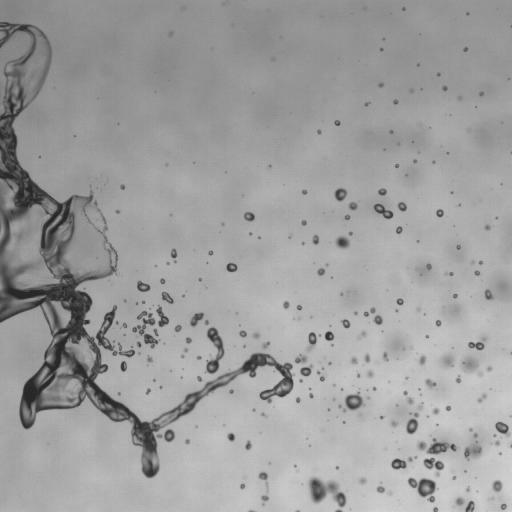droplet: (132, 305, 169, 348), (417, 438, 457, 476), (308, 477, 346, 511), (408, 477, 437, 502), (338, 391, 364, 412), (461, 357, 483, 376), (468, 334, 487, 350), (464, 443, 482, 459), (495, 421, 511, 437), (439, 353, 455, 368), (335, 235, 349, 249), (190, 312, 203, 326), (334, 188, 347, 201), (300, 365, 313, 376), (162, 291, 173, 303), (137, 281, 150, 291), (492, 480, 502, 492), (226, 262, 237, 272), (425, 378, 436, 388), (295, 354, 307, 363), (417, 354, 426, 365), (244, 212, 254, 221), (484, 289, 493, 299), (324, 331, 334, 340), (465, 501, 474, 511), (397, 202, 406, 211), (373, 315, 382, 324), (341, 319, 350, 328), (455, 496, 464, 505), (348, 202, 357, 210), (171, 249, 177, 260), (227, 433, 235, 441), (312, 235, 319, 244), (261, 341, 270, 348), (120, 361, 126, 371), (378, 188, 386, 195), (436, 209, 443, 217), (317, 268, 325, 275), (358, 477, 366, 484), (376, 485, 384, 492), (364, 353, 370, 362), (382, 352, 388, 361), (245, 440, 251, 449), (396, 298, 403, 305), (174, 325, 181, 332), (239, 330, 246, 337), (350, 357, 357, 364), (390, 420, 397, 427), (252, 332, 260, 338), (396, 226, 402, 233), (283, 301, 289, 308), (432, 408, 439, 414), (484, 224, 490, 230), (435, 320, 441, 326), (367, 371, 373, 377), (147, 356, 152, 363), (455, 375, 460, 382), (493, 440, 500, 445), (334, 120, 340, 125), (186, 337, 191, 343), (136, 341, 141, 347), (486, 366, 492, 371), (145, 388, 150, 394), (445, 405, 451, 410), (500, 504, 506, 509), (302, 189, 307, 194), (301, 220, 306, 225), (208, 250, 213, 255), (426, 264, 431, 269), (474, 270, 479, 275), (197, 376, 202, 381), (344, 215, 350, 219), (160, 278, 164, 284), (296, 397, 300, 403), (240, 483, 244, 489), (378, 83, 383, 87), (442, 86, 447, 90), (120, 184, 124, 189), (309, 393, 313, 398), (185, 439, 189, 444), (433, 507, 438, 511), (446, 272, 452, 275), (463, 47, 467, 51), (393, 100, 397, 104), (364, 102, 368, 106), (317, 130, 321, 134), (456, 245, 460, 249), (453, 294, 457, 298), (297, 305, 301, 309), (122, 323, 126, 327), (229, 389, 233, 393), (262, 413, 266, 417), (473, 433, 477, 437), (479, 92, 483, 95), (413, 159, 416, 163), (417, 307, 420, 311), (205, 320, 208, 324), (184, 348, 187, 352), (372, 387, 376, 390), (466, 487, 469, 491), (395, 164, 398, 167), (479, 261, 482, 264), (354, 311, 357, 314), (181, 354, 184, 357), (197, 356, 200, 359), (359, 412, 361, 416), (458, 97, 461, 99), (390, 130, 392, 133), (116, 210, 118, 213), (349, 232, 351, 235), (471, 261, 474, 263), (198, 278, 201, 280), (425, 335, 428, 337), (328, 362, 331, 364), (357, 374, 359, 377), (332, 398, 335, 400), (380, 416, 383, 418), (336, 466, 338, 469), (453, 476, 455, 479), (438, 73, 440, 75), (35, 224, 37, 226), (302, 242, 304, 244), (167, 262, 169, 264), (182, 295, 184, 297), (367, 396, 369, 398), (494, 434, 496, 436)
ligament: (0, 22, 292, 478), (205, 326, 225, 373), (406, 403, 423, 434), (258, 472, 268, 504), (390, 457, 416, 469), (374, 203, 393, 219), (307, 332, 318, 351), (16, 227, 32, 240), (403, 391, 414, 404), (363, 307, 375, 316), (317, 370, 325, 381), (477, 393, 486, 402), (357, 331, 365, 339), (509, 442, 511, 448), (249, 510, 255, 511), (296, 510, 299, 511)
